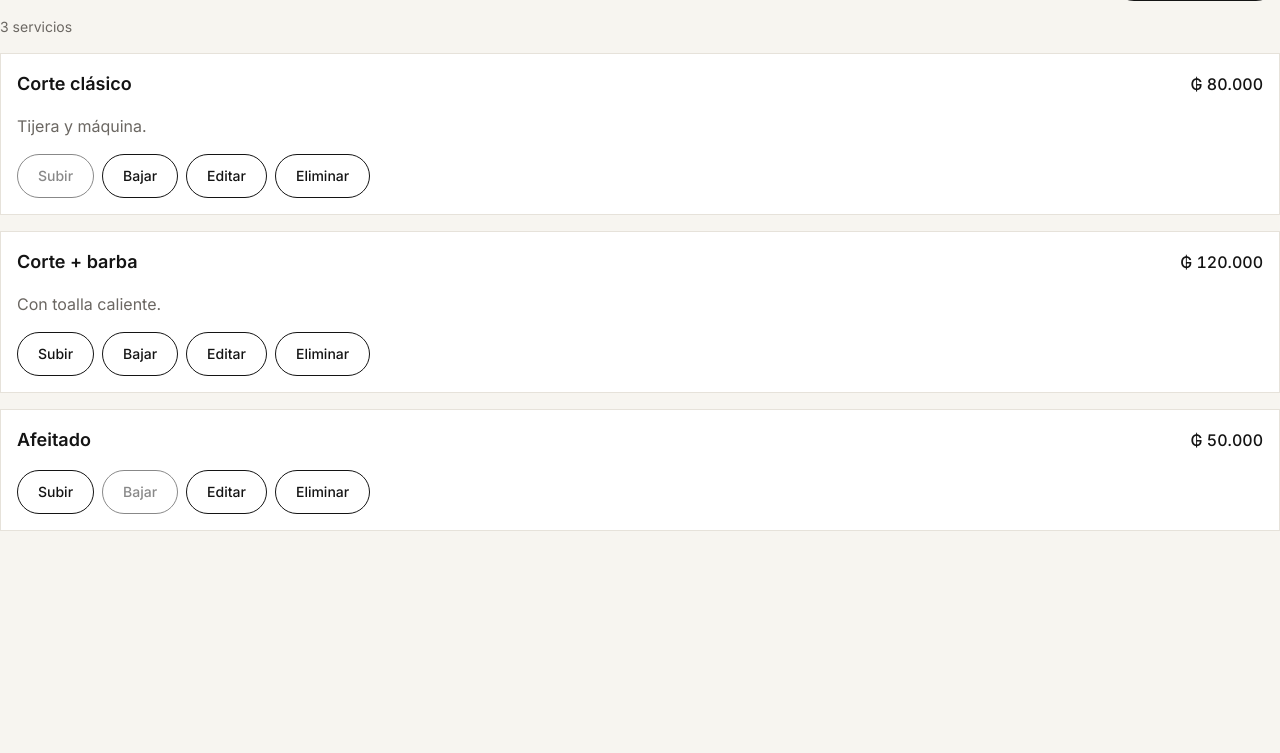
Scenario: edición en línea › guardar cierra el formulario, avisa y devuelve el foco
This screenshot has width=1280, height=753.
Click the button with aria-label "Editar Corte + barba" at (226, 354), box x1=186 y1=332 x2=267 y2=376
(page scrolled)
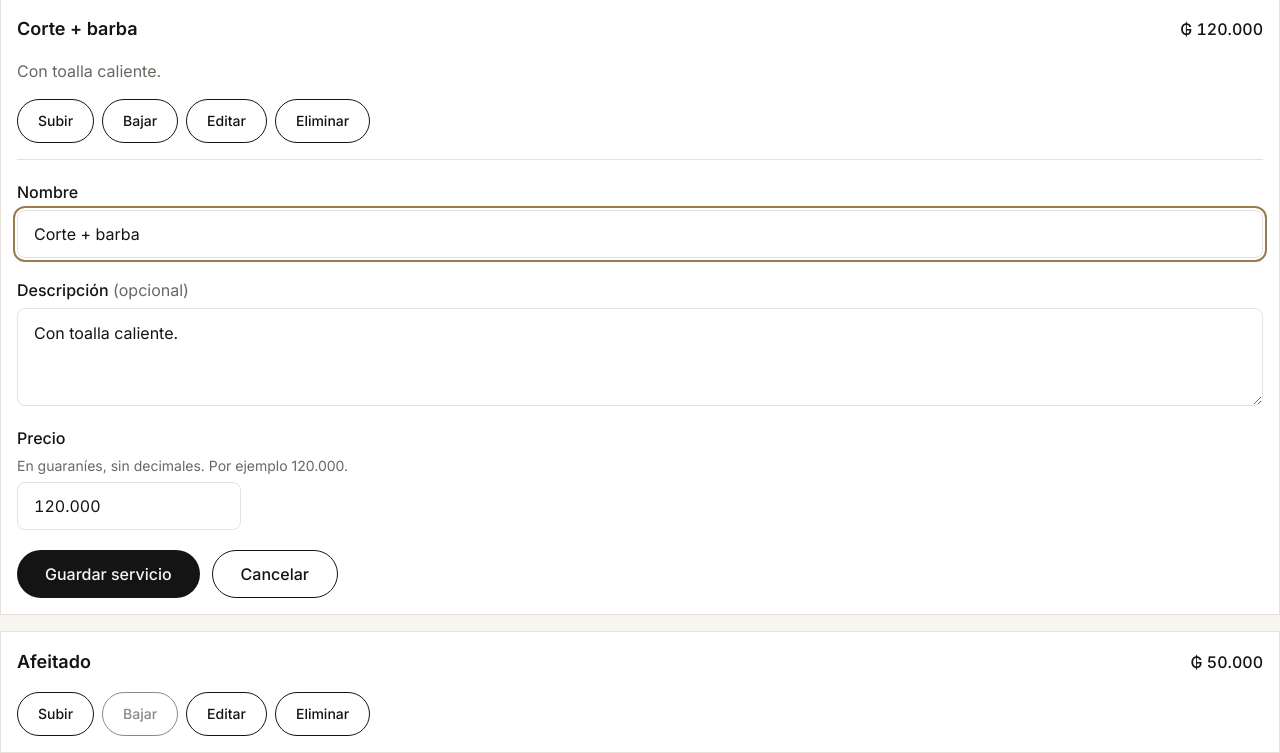
Replace the text in the field labelled "Precio" with "130000" at (129, 506), box x1=17 y1=482 x2=241 y2=530
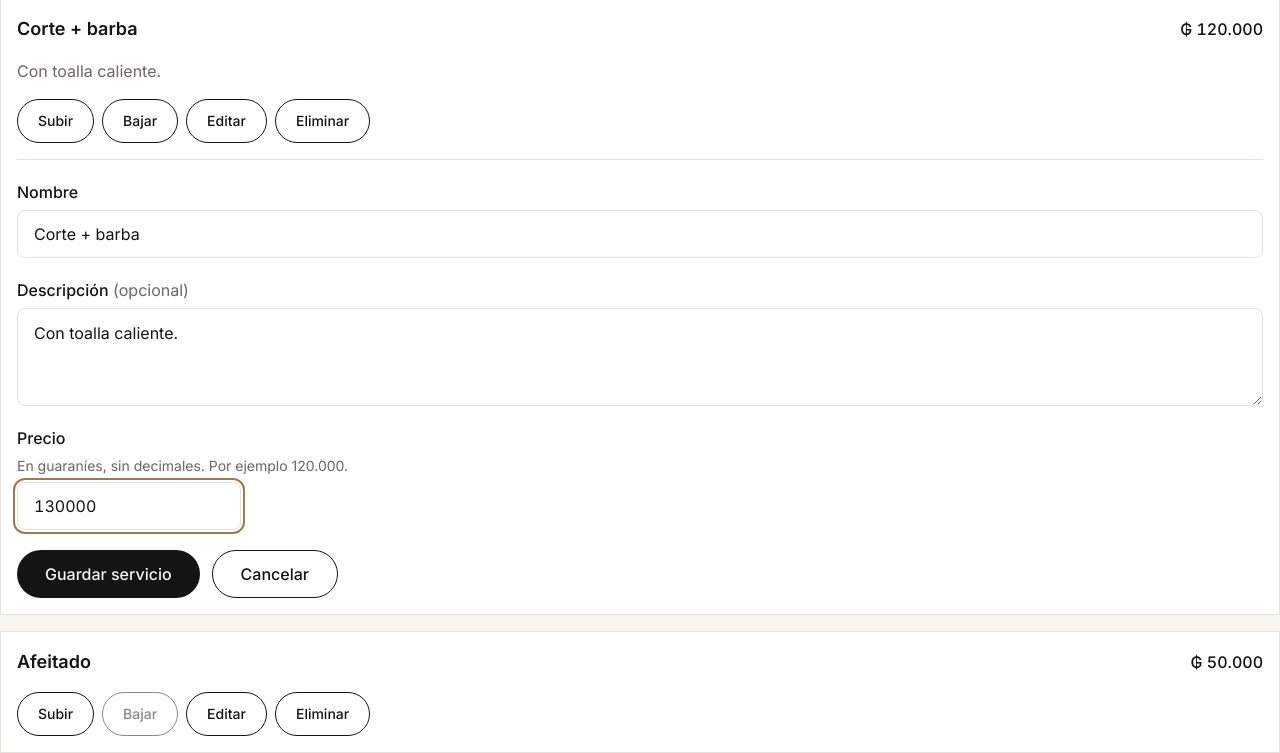
Click the button "Guardar servicio" at (108, 574), box x1=17 y1=550 x2=200 y2=598
(page scrolled)
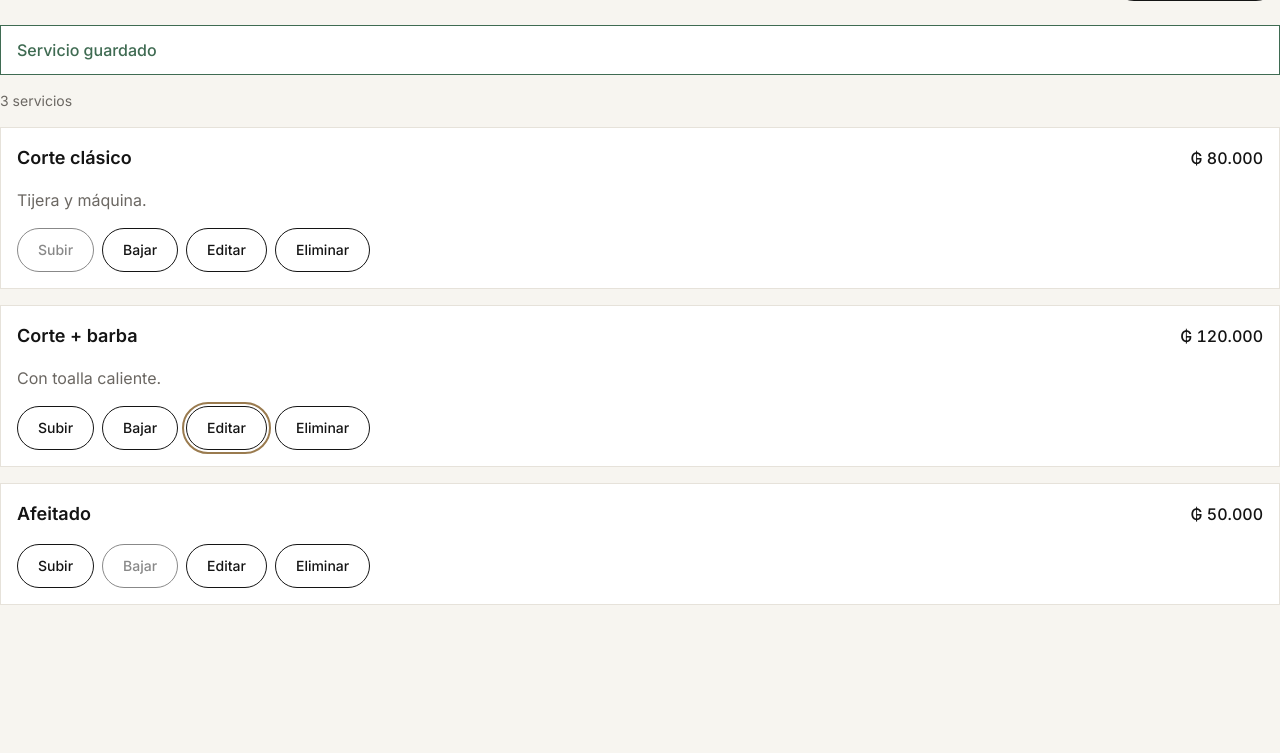
Expected: the label labelled "Nombre" is gone
Expected: the text "Servicio guardado" is shown, x1=0 y1=25 x2=1279 y2=75
